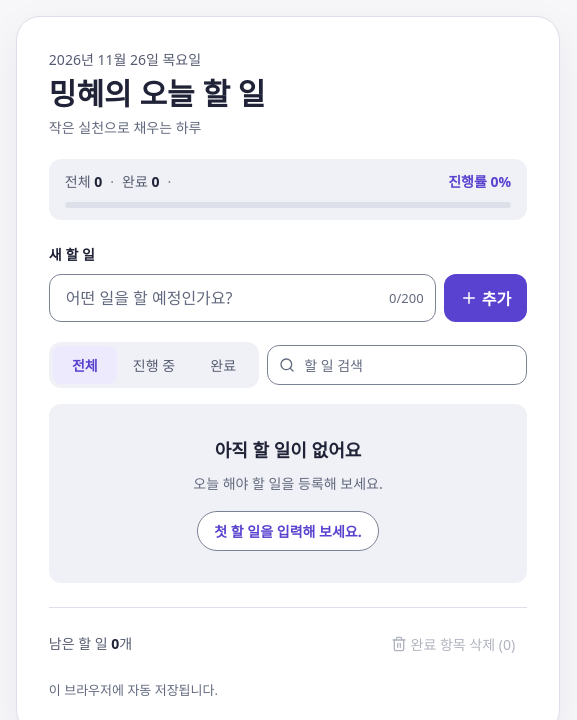
Test: App Component Integration › 할 일 내용 수정 및 Esc 키 취소가 올바르게 동작한다
Later steps or results of the test are not shown.
Type "원래 내용" into the field with placeholder "어떤 일을 할 예정인가요?" at (242, 298), box [49, 274, 436, 322]
Then press Enter
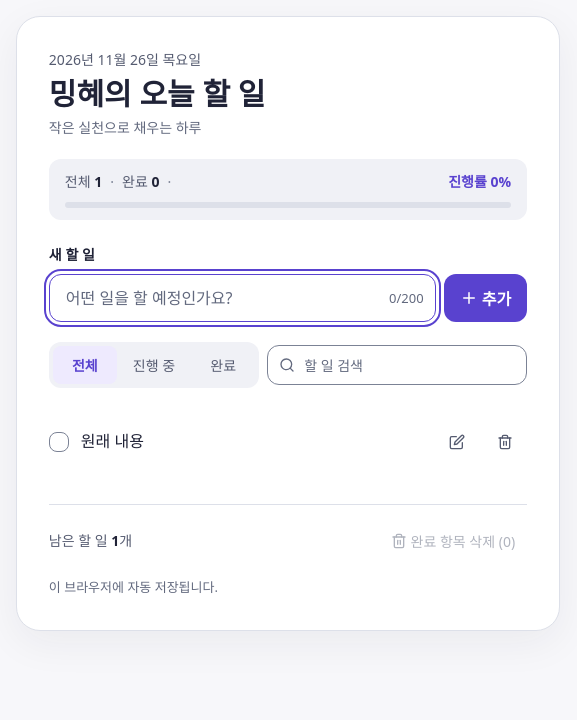
Click the button named "\"원래 내용\" 수정" at (457, 442), box [435, 420, 479, 464]
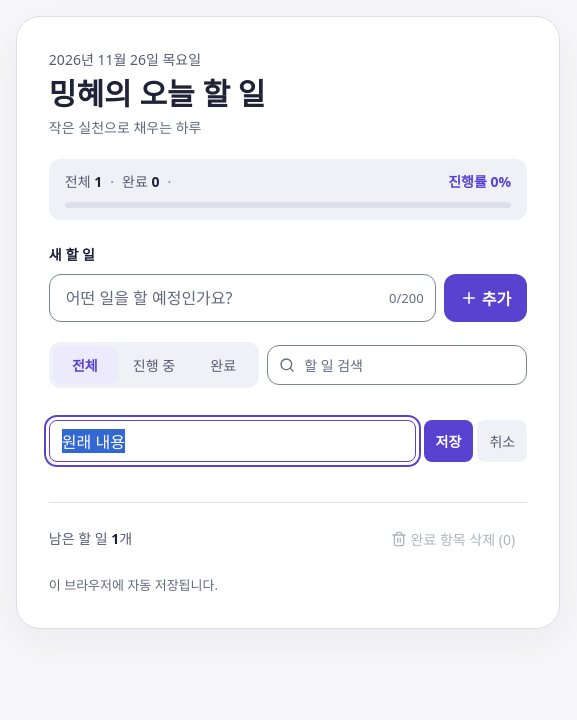
Expected: the field named "\"원래 내용\" 수정 입력" is shown
Replace the text in the field named "\"원래 내용\" 수정 입력" with "변경 시도" at (232, 441), box [49, 420, 416, 462]
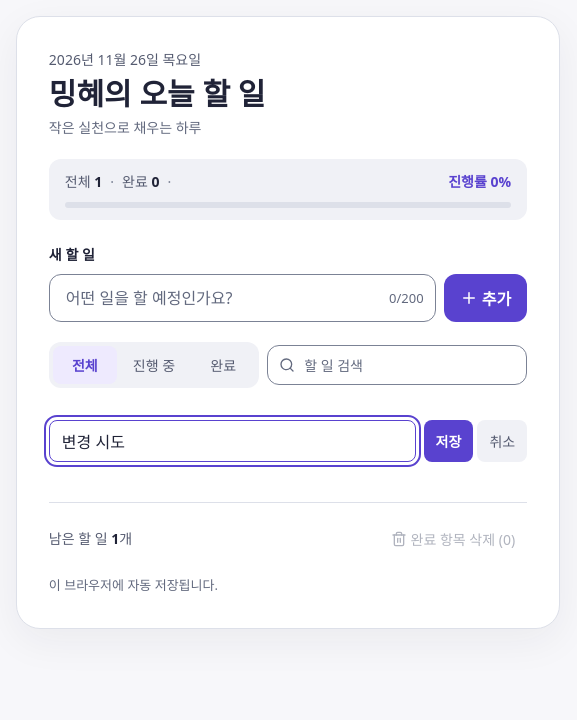
Press Escape in the field named "\"원래 내용\" 수정 입력", box [49, 420, 416, 462]
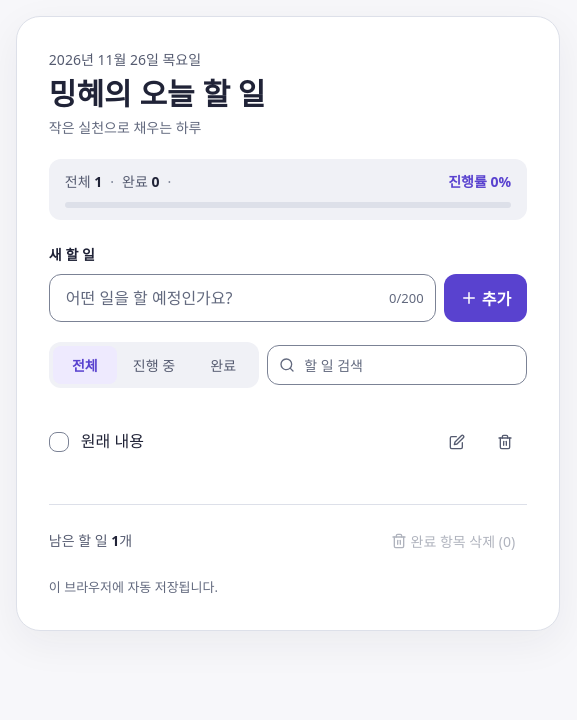
Expected: the text "원래 내용" is shown, [81, 429, 144, 455]
